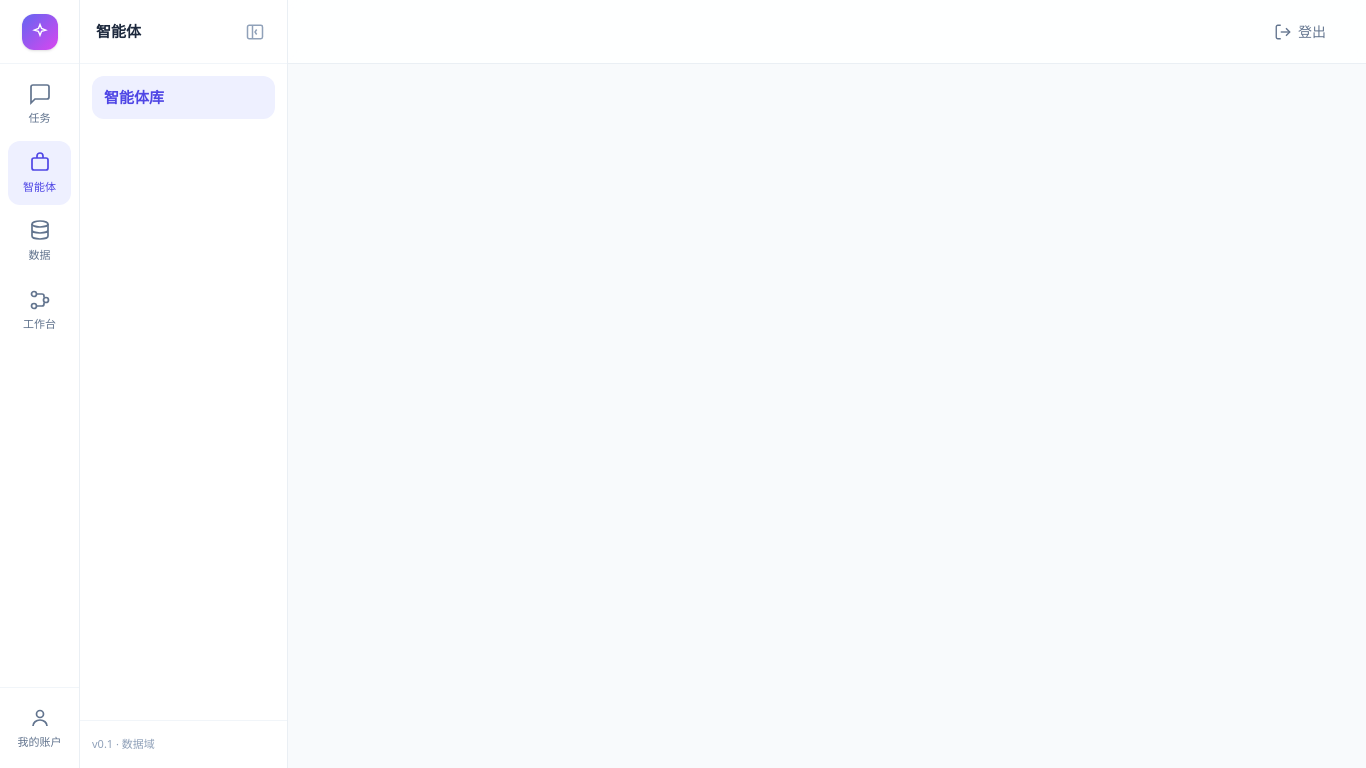
Test: 二级面板可折叠(含子页的一级项)
Expected: the element with test id "secondary-nav" is shown, [80,0,288,767]
What coordinates should you click on to do the following:
click the button named "折叠面板"
I would click on:
 (255, 32)
Its box is [239,16,271,48].
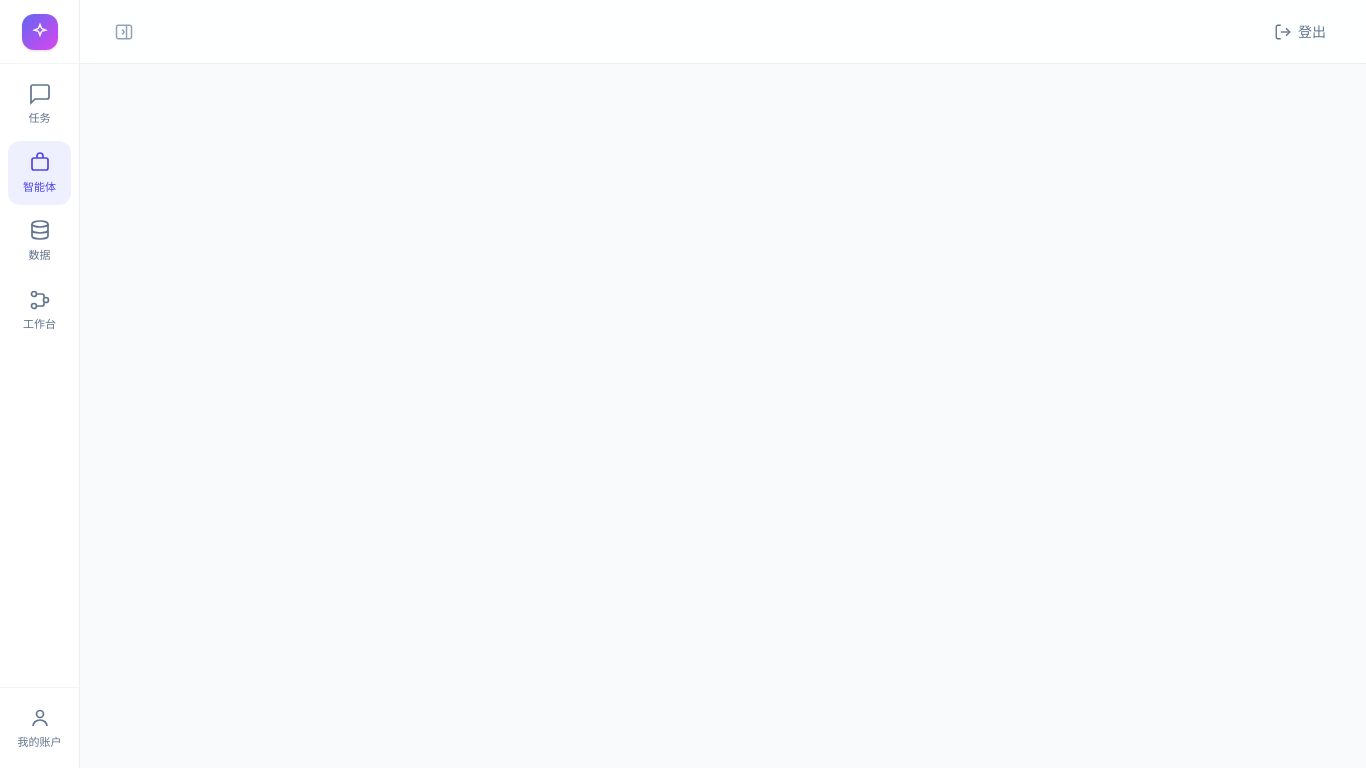
Expected: the element with test id "secondary-nav" is gone
What coordinates should you click on to do the following:
click the button named "展开面板"
I would click on:
 (124, 32)
Its box is [108,16,140,48].
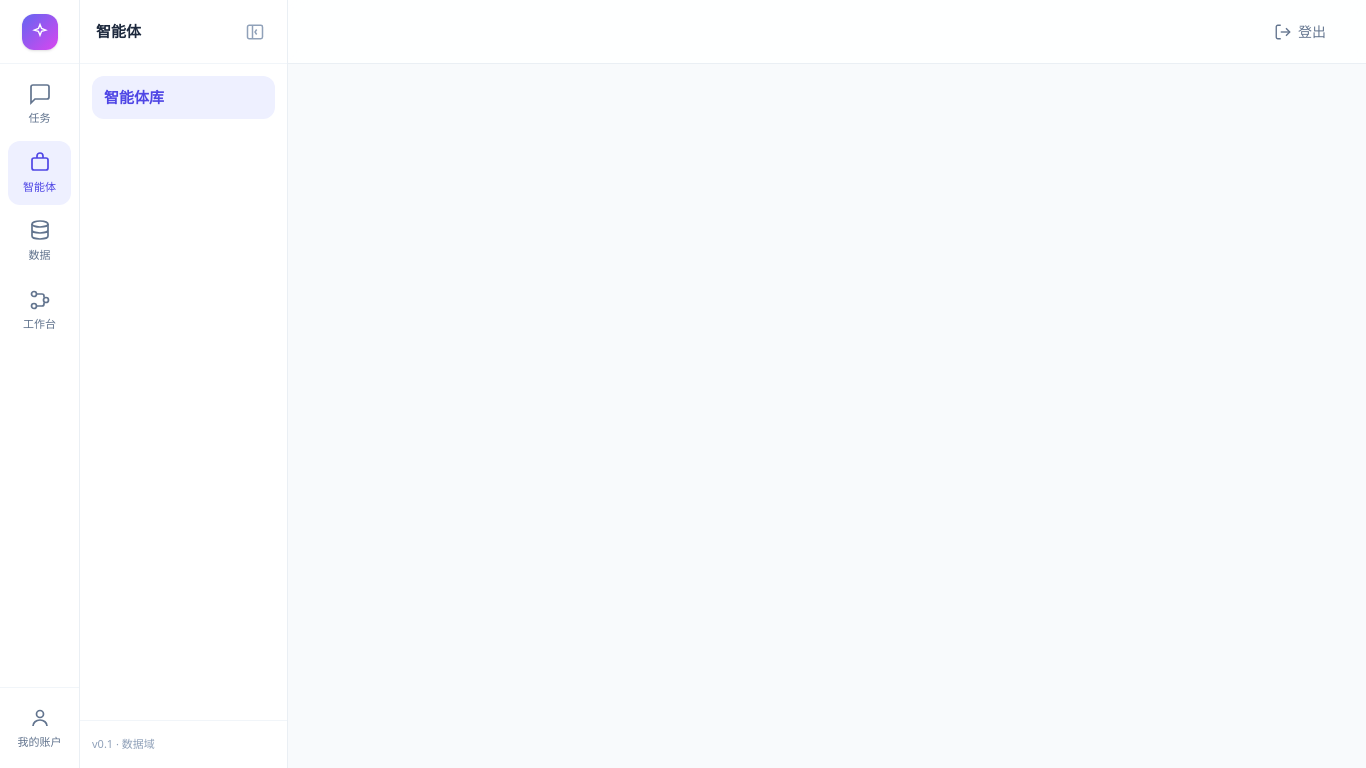
Expected: the element with test id "secondary-nav" is shown, [80,0,288,767]
